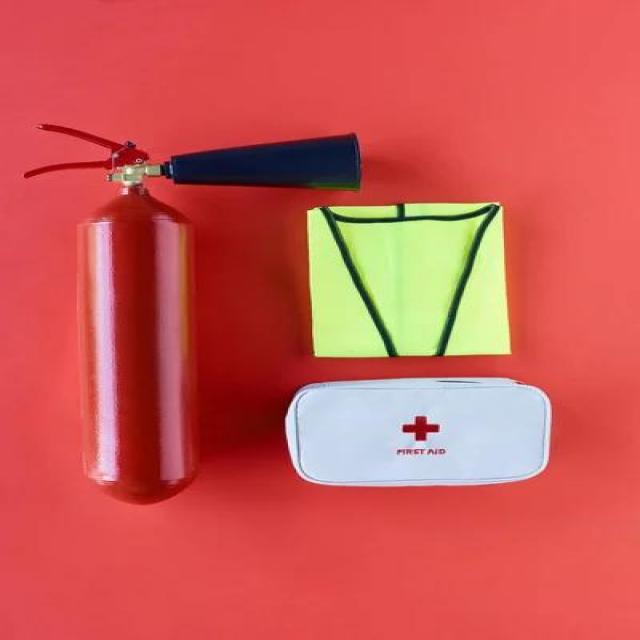fire_extinguisher: (16, 112, 373, 506)
